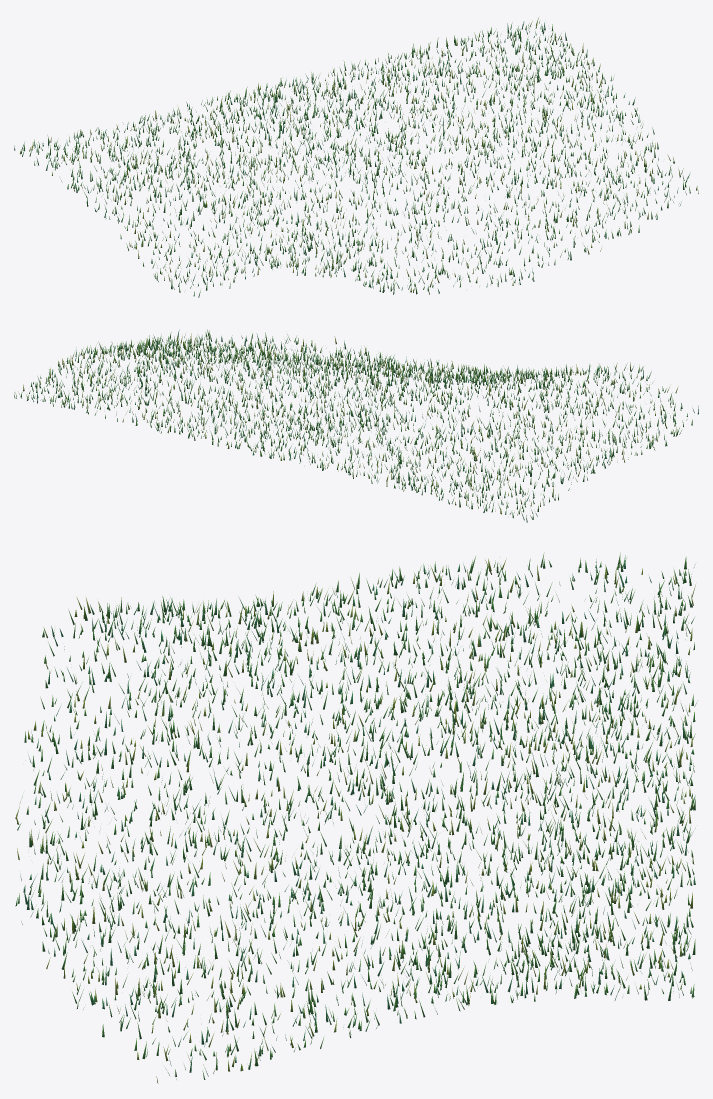
3 views of the same model, one above another, from view 1: azimuth 30°, elevation 25°; view 2: azimuth 150°, elevation 25°; view 3: azimuth 270°, elevation 25° (orthographic). The views are drawn at different scales.
Parts seen in each view (by area): view 1: gc_7; view 2: gc_7; view 3: gc_7.
Part boxes in pixels (left/top/right/bottom): gc_7: left=14, top=17, right=698, bottom=297; gc_7: left=14, top=329, right=698, bottom=522; gc_7: left=15, top=552, right=696, bottom=1083.
Size of the model in its own units: 18.14 by 2.34 by 12.09.
1 material, 1 textured.
